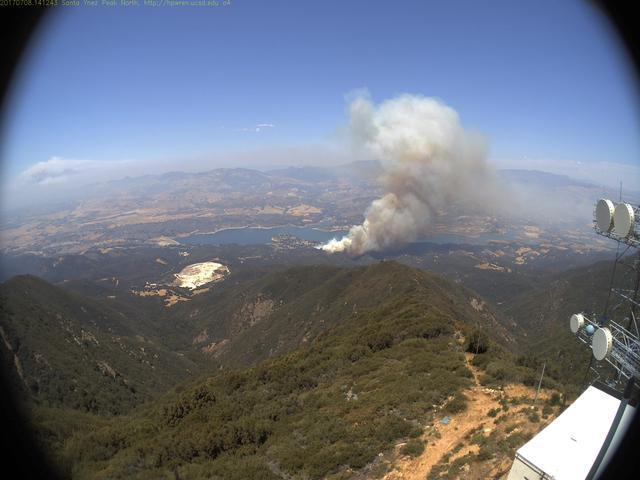Smoke: (314, 82, 558, 257)
